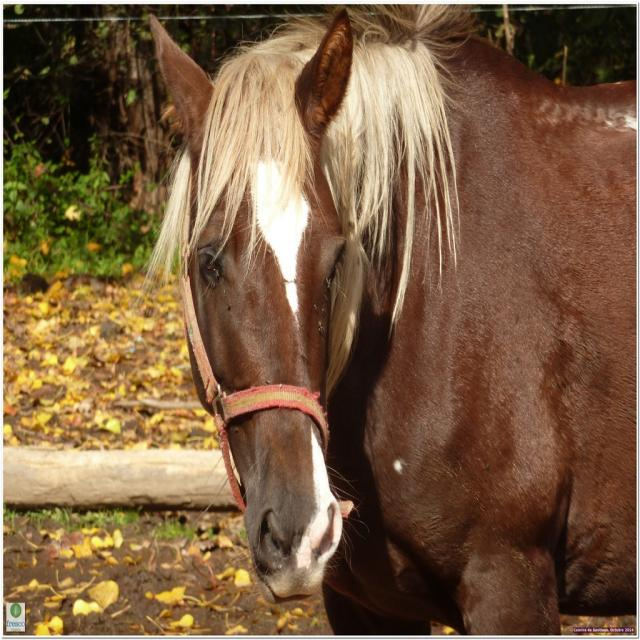Horse: (135, 0, 636, 639)
